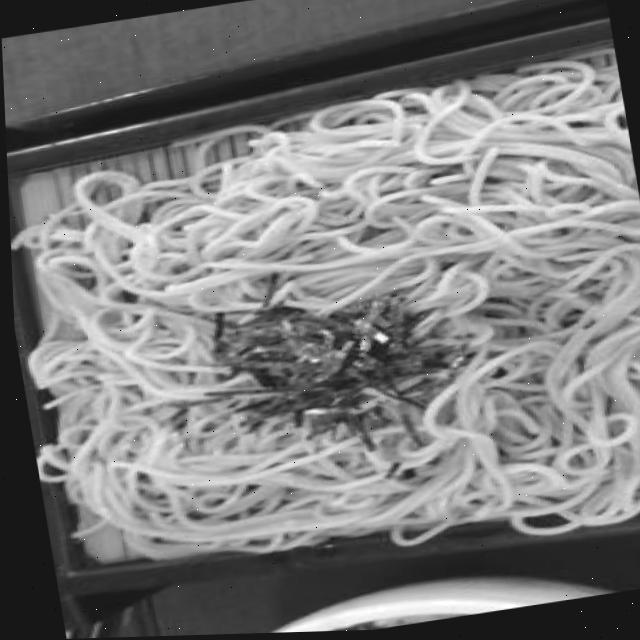面条主食: (5, 126, 640, 607)
